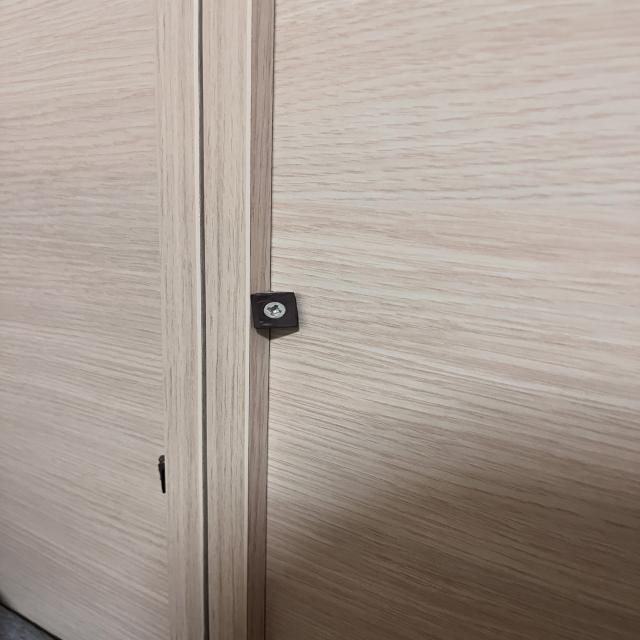pozidriv: (263, 302, 286, 319)
